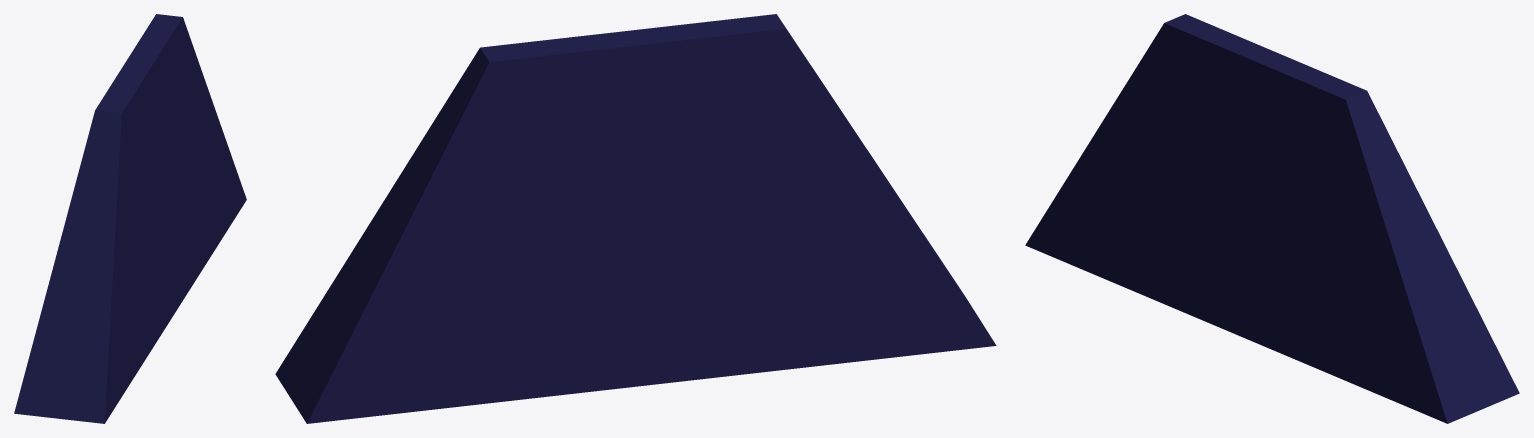
Rendered from cockpit-7.glb.
3 views of the same model, side by side, from view 1: azimuth 30°, elevation 25°; view 2: azimuth 150°, elevation 25°; view 3: azimuth 270°, elevation 25° (orthographic). The views are drawn at different scales.
Visible parts, largest first — view 1: Cone; view 2: Cone; view 3: Cone.
Boxes of the visible parts, box(x1,y1,x2,y2) form: Cone: box(14, 14, 246, 423); Cone: box(275, 14, 996, 423); Cone: box(1025, 14, 1519, 423).
Size of the model in its own units: 7.56 by 4.48 by 7.56.
